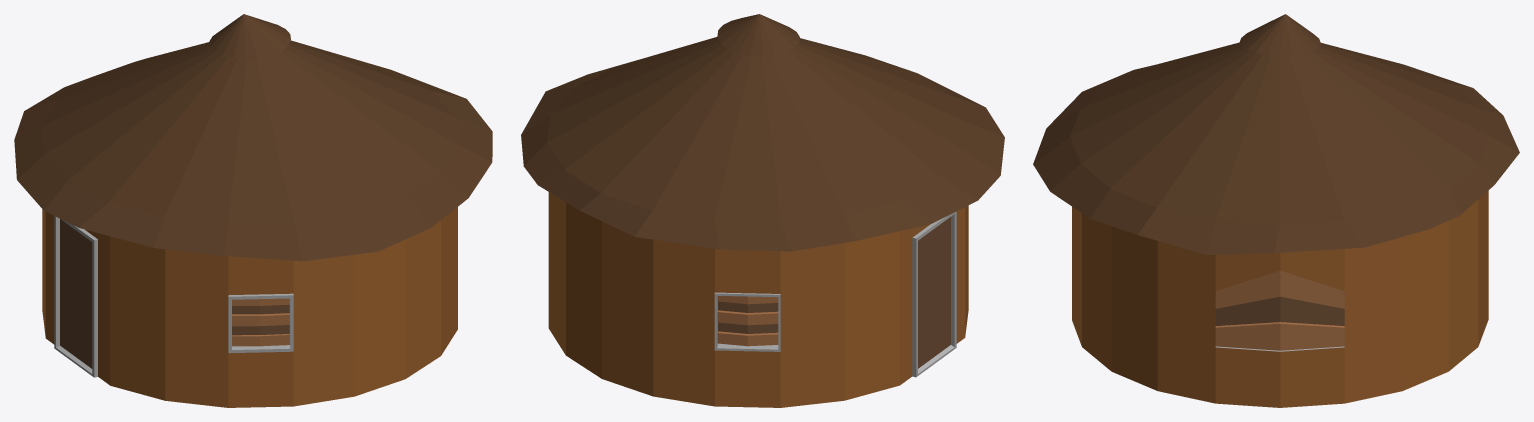
Rendered from Hut1.fbx.
3 renders of one model, left to right at view 1: azimuth 30°, elevation 25°; view 2: azimuth 150°, elevation 25°; view 3: azimuth 270°, elevation 25°, orthographic.
Parts seen in each view (by area): view 1: Cone, Cylinder; view 2: Cone, Cylinder; view 3: Cone, Cylinder.
Part boxes in pixels (x1,y1,x2,y2): Cone: (14,14,492,261); Cylinder: (42,207,457,407); Cone: (521,14,1004,251); Cylinder: (548,192,968,407); Cone: (1033,14,1519,254); Cylinder: (1072,190,1488,407).
Bounding box in the file's own units: 2352 × 1611 × 2337.
